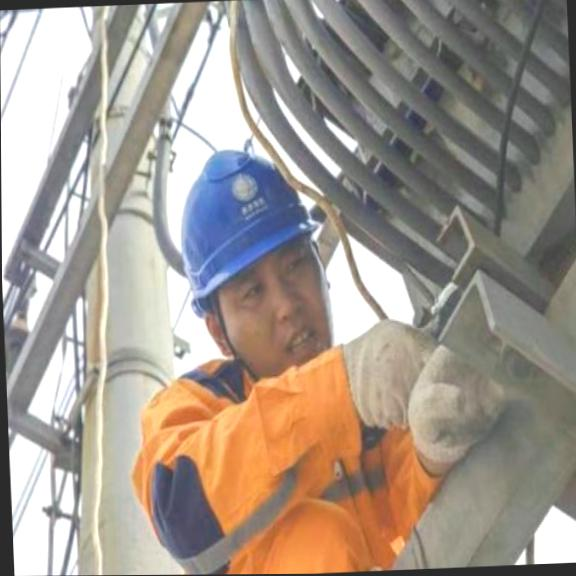safety_vest: (152, 336, 353, 575)
